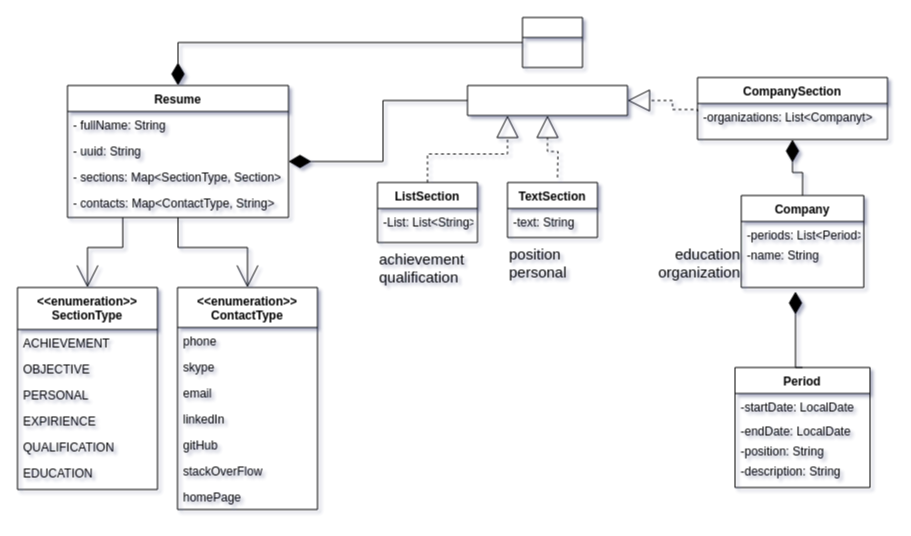
This 911x536 diagram has some shape labels left out. Here are the shapes that lost their labels. From the top down, the centre of each, then its label:
At point 552,42: "String".
At point 547,100: "Section".
